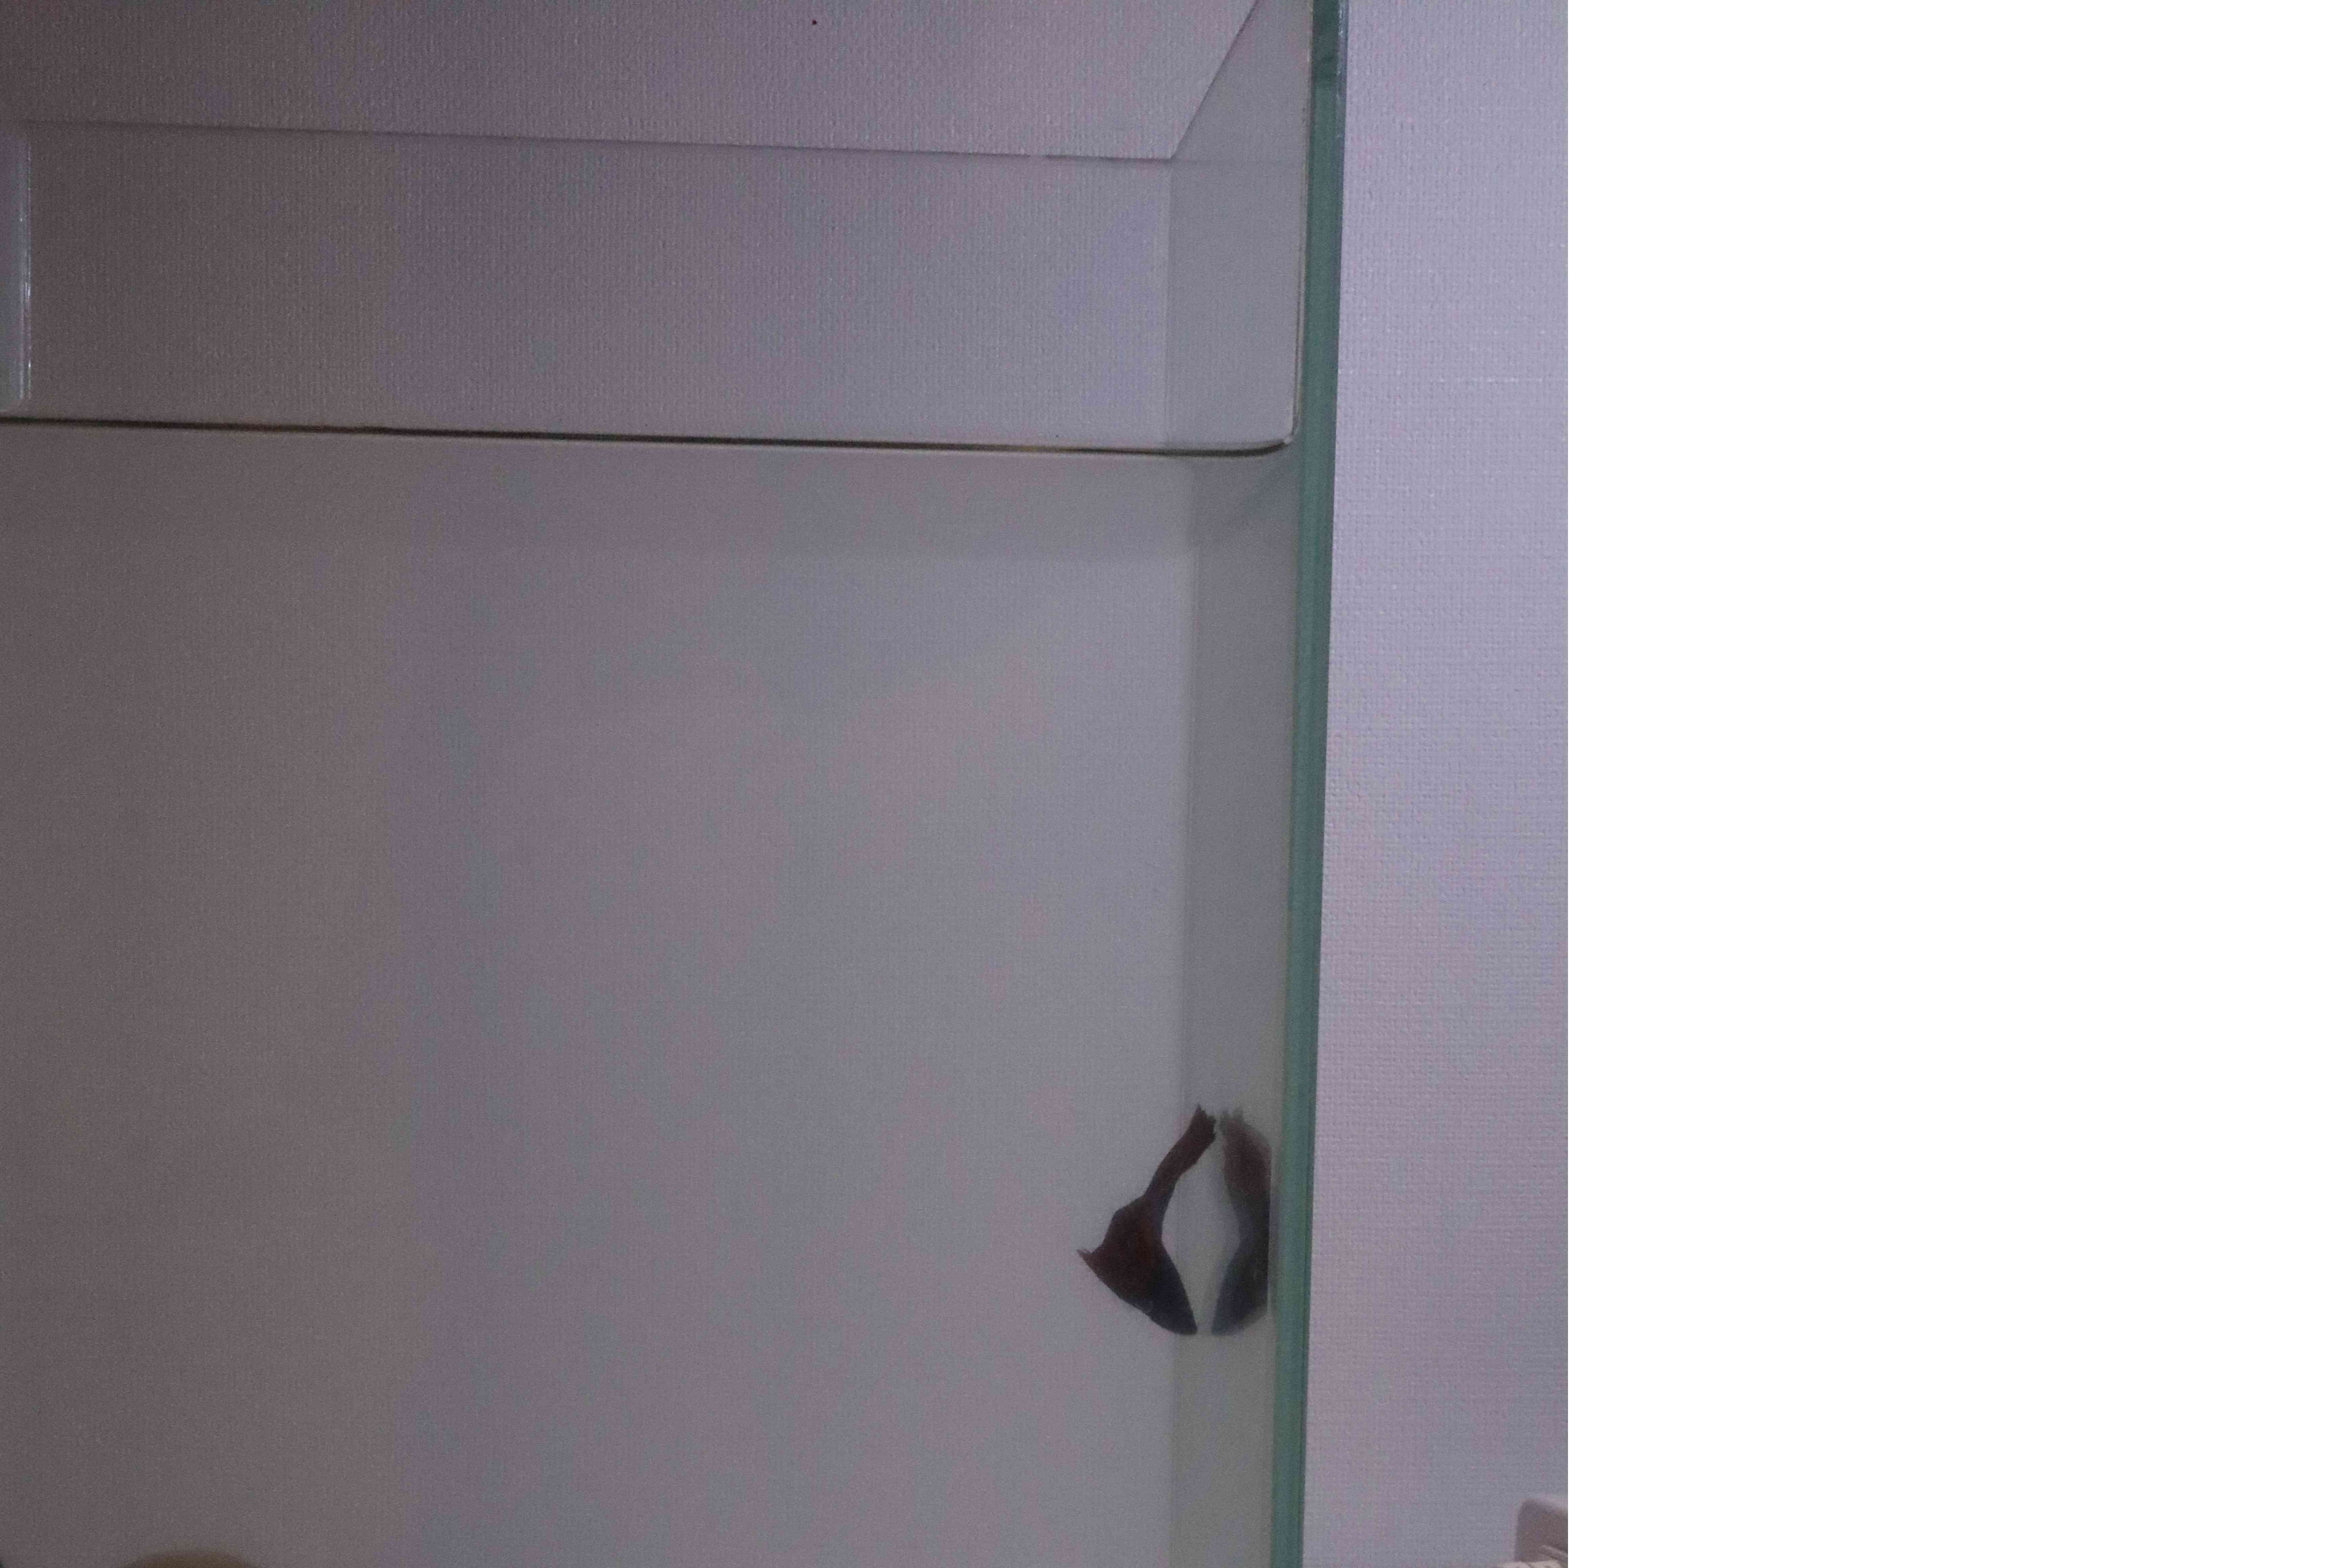fish: (1069, 1104, 1227, 1346)
